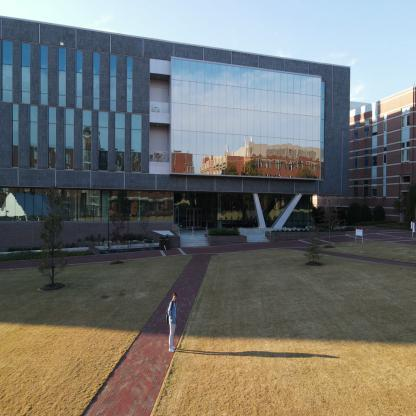EB-1: (362, 73, 415, 251)
Fitts- Woolard: (0, 11, 357, 268)
